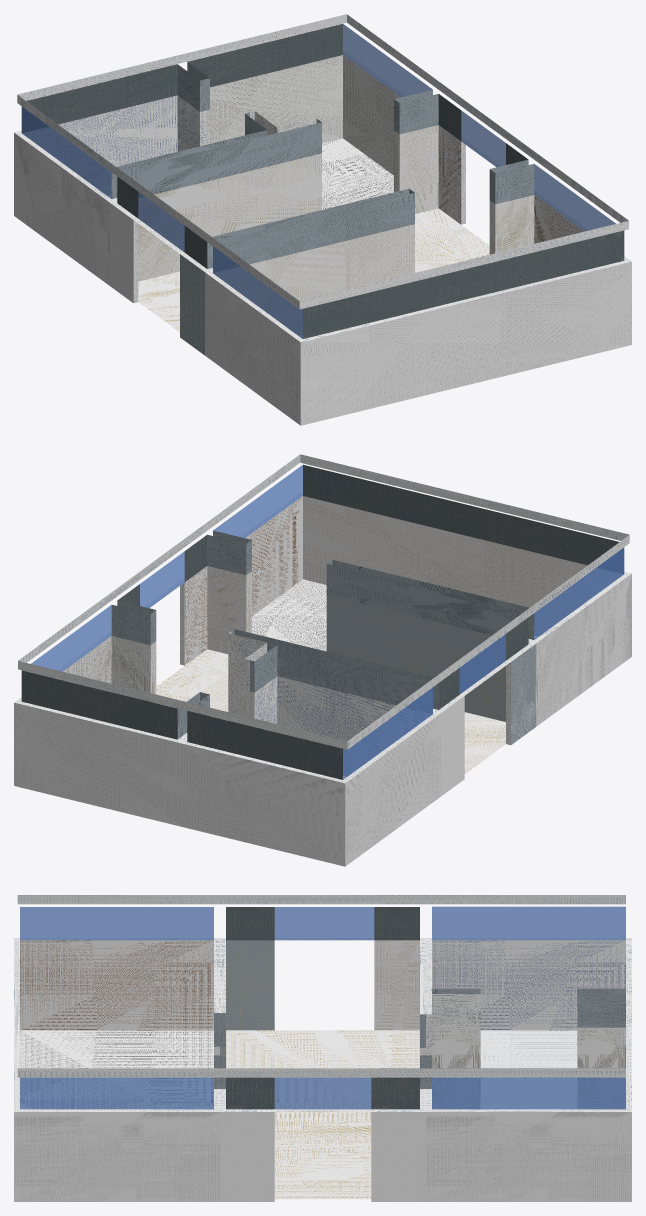
File: New_Building_final_skeleton1.glb
The picture shows the model from 3 angles, top to bottom: view 1: azimuth 30°, elevation 25°; view 2: azimuth 150°, elevation 25°; view 3: azimuth 270°, elevation 25°; orthographic projection. The views are drawn at different scales.
Parts seen in each view (by area): view 1: Model.1; view 2: Model.1; view 3: Model.1.
Boxes of the visible parts, x1,y1,x2,y2 form: Model.1: (14, 14, 631, 425); Model.1: (14, 454, 631, 866); Model.1: (14, 895, 631, 1201).
Bounding box in the file's own units: 776 × 276 × 1163.
14 materials, 11 textured.
